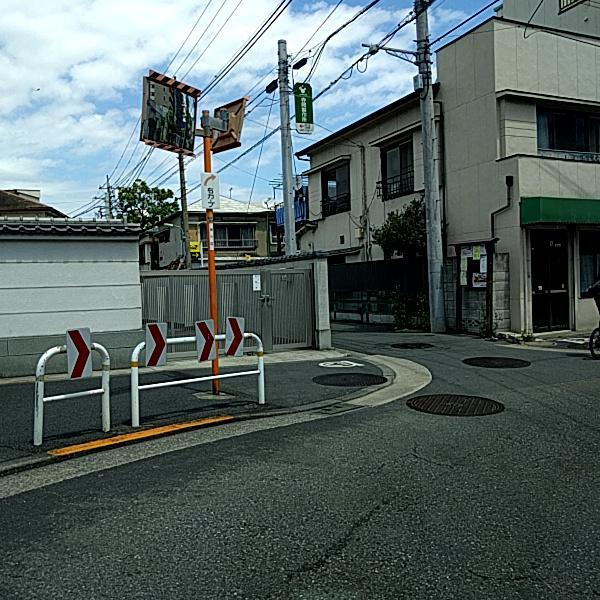D00: (378, 432, 503, 478)
D10: (455, 560, 564, 590)
D50: (404, 391, 506, 419), (312, 369, 389, 385), (461, 353, 532, 369), (389, 339, 431, 352)
